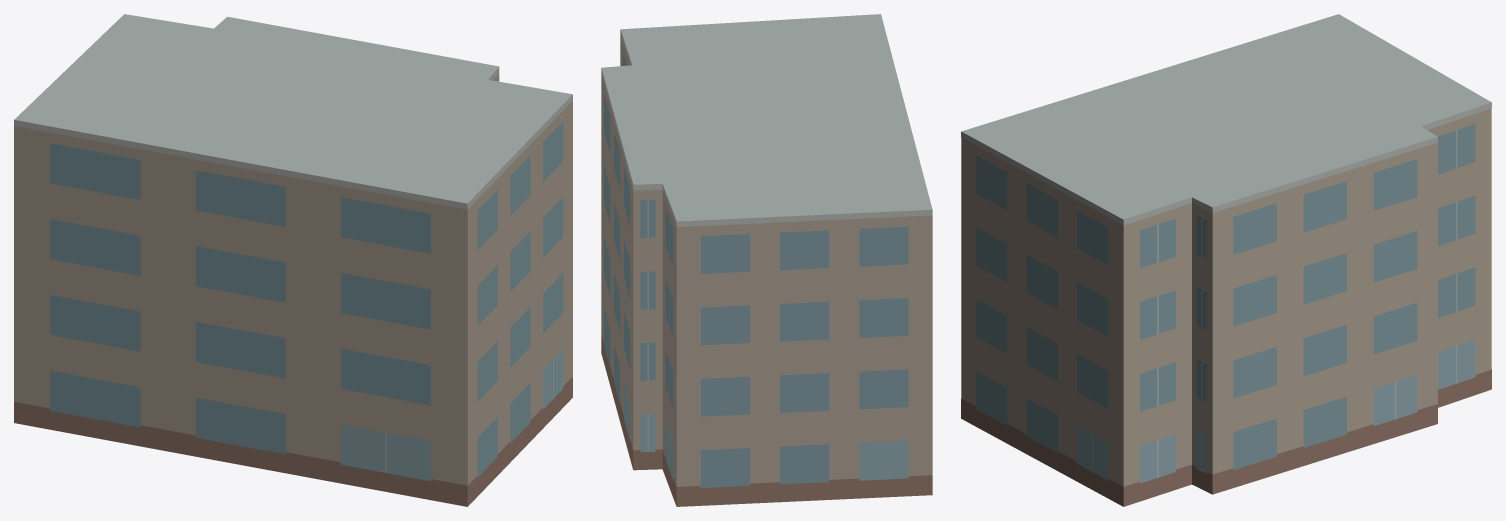
The model's file is survey-upis-32689351.glb.
3 views of the same model, side by side, from view 1: azimuth 30°, elevation 25°; view 2: azimuth 150°, elevation 25°; view 3: azimuth 270°, elevation 25° (orthographic). The views are drawn at different scales.
Visible parts, largest first — view 1: survey-upis-32689351.tmp; view 2: survey-upis-32689351.tmp; view 3: survey-upis-32689351.tmp.
Boxes of the visible parts, <box> form: survey-upis-32689351.tmp: <box>14,14,572,506</box>; survey-upis-32689351.tmp: <box>601,14,932,506</box>; survey-upis-32689351.tmp: <box>961,14,1491,506</box>.
Size of the model in its own units: 18.75 by 12.2 by 20.44.
